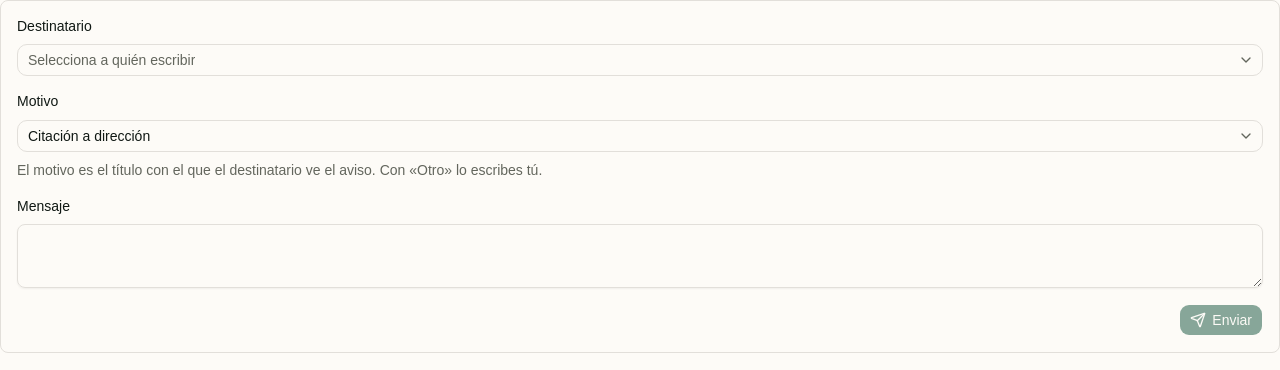
Test: ComposeNotification › offers each reason by the same words the inbox heads it with
The image size is (1280, 370).
Click the dropdown named "motivo". click: [89, 136]
box: [17,120,1263,152]
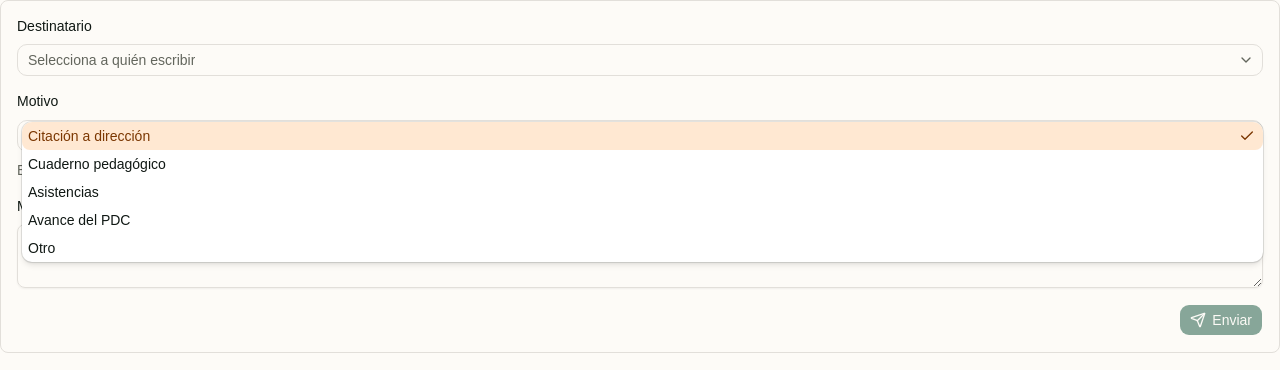
Now the option "Citación a dirección" is shown, box [22,122,1263,150]
Now the option "Cuaderno pedagógico" is shown, box [28,156,166,172]
Now the option "Asistencias" is shown, box [28,184,99,200]
